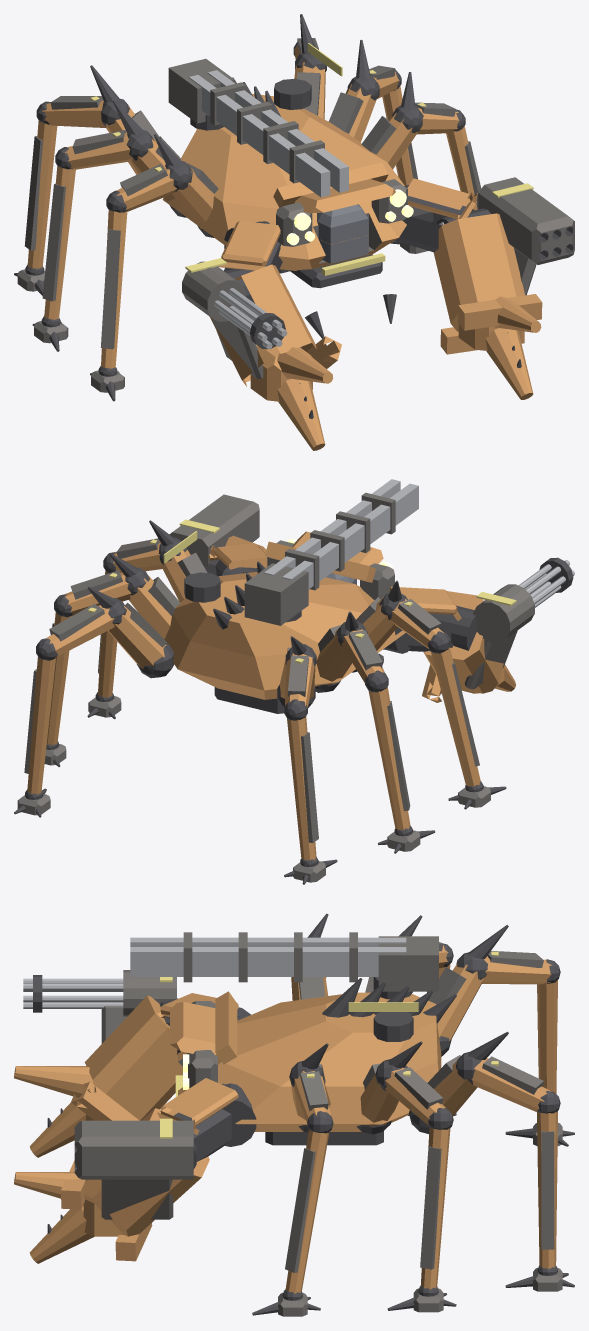
File: scuttler.glb
3 views of the same model, one above another, from view 1: azimuth 30°, elevation 25°; view 2: azimuth 150°, elevation 25°; view 3: azimuth 270°, elevation 25° (orthographic). The views are drawn at different scales.
Visible parts, largest first — view 1: carapace, fore1, rockets1_box, fore-1, railgun-1_rail-0.45, brow, upper-1_front, railgun-1_breech, gatling-1_body, railgun-1_rail0.45, finger1, finger-1 (+39 smaller); view 2: carapace, rockets1_box, railgun-1_rail-0.45, railgun-1_breech, fore-1, gatling-1_body, tarsus0-1, tarsus21, tarsus1-1, tarsus2-1, femur21, railgun-1_rail0.45 (+33 smaller); view 3: carapace, fore-1, rockets1_box, railgun-1_rail0.45, fore1, brow, railgun-1_breech, railgun-1_rail-0.45, fore_shell1, tarsus2-1, upper1_front, tarsus01 (+40 smaller).
Part boxes in pixels (left/top/right/bottom): carapace: left=162, top=93, right=406, bottom=270; fore1: left=433, top=213, right=542, bottom=354; rockets1_box: left=478, top=177, right=574, bottom=264; fore-1: left=209, top=264, right=341, bottom=386; railgun-1_rail-0.45: left=189, top=75, right=330, bottom=197; brow: left=273, top=162, right=395, bottom=213; upper-1_front: left=218, top=220, right=280, bottom=270; railgun-1_breech: left=168, top=58, right=234, bottom=123; gatling-1_body: left=182, top=261, right=245, bottom=321; railgun-1_rail0.45: left=207, top=70, right=348, bottom=192; finger1: left=485, top=328, right=533, bottom=399; finger-1: left=277, top=378, right=325, bottom=450; carapace: left=164, top=572, right=405, bottom=699; rockets1_box: left=169, top=494, right=259, bottom=566; railgun-1_rail-0.45: left=282, top=483, right=418, bottom=588; railgun-1_breech: left=244, top=563, right=308, bottom=625; fore-1: left=422, top=591, right=503, bottom=702; gatling-1_body: left=473, top=584, right=534, bottom=642; tarsus0-1: left=431, top=647, right=480, bottom=786; tarsus21: left=27, top=656, right=55, bottom=794; tarsus1-1: left=368, top=687, right=410, bottom=829; tarsus2-1: left=287, top=716, right=316, bottom=860; femur21: left=108, top=606, right=166, bottom=668; railgun-1_rail0.45: left=264, top=479, right=400, bottom=575; carapace: left=178, top=992, right=441, bottom=1131; fore-1: left=71, top=995, right=182, bottom=1120; rockets1_box: left=74, top=1120, right=193, bottom=1179; railgun-1_rail0.45: left=130, top=947, right=406, bottom=976; fore1: left=60, top=1108, right=209, bottom=1261; brow: left=170, top=991, right=237, bottom=1064; railgun-1_breech: left=378, top=936, right=438, bottom=991; railgun-1_rail-0.45: left=130, top=937, right=406, bottom=946; fore_shell1: left=101, top=1179, right=173, bottom=1219; tarsus2-1: left=537, top=980, right=557, bottom=1093; upper1_front: left=157, top=1078, right=238, bottom=1134; tarsus01: left=285, top=1130, right=329, bottom=1293.
Size of the model in its own units: 19.76 by 11.05 by 22.37.
